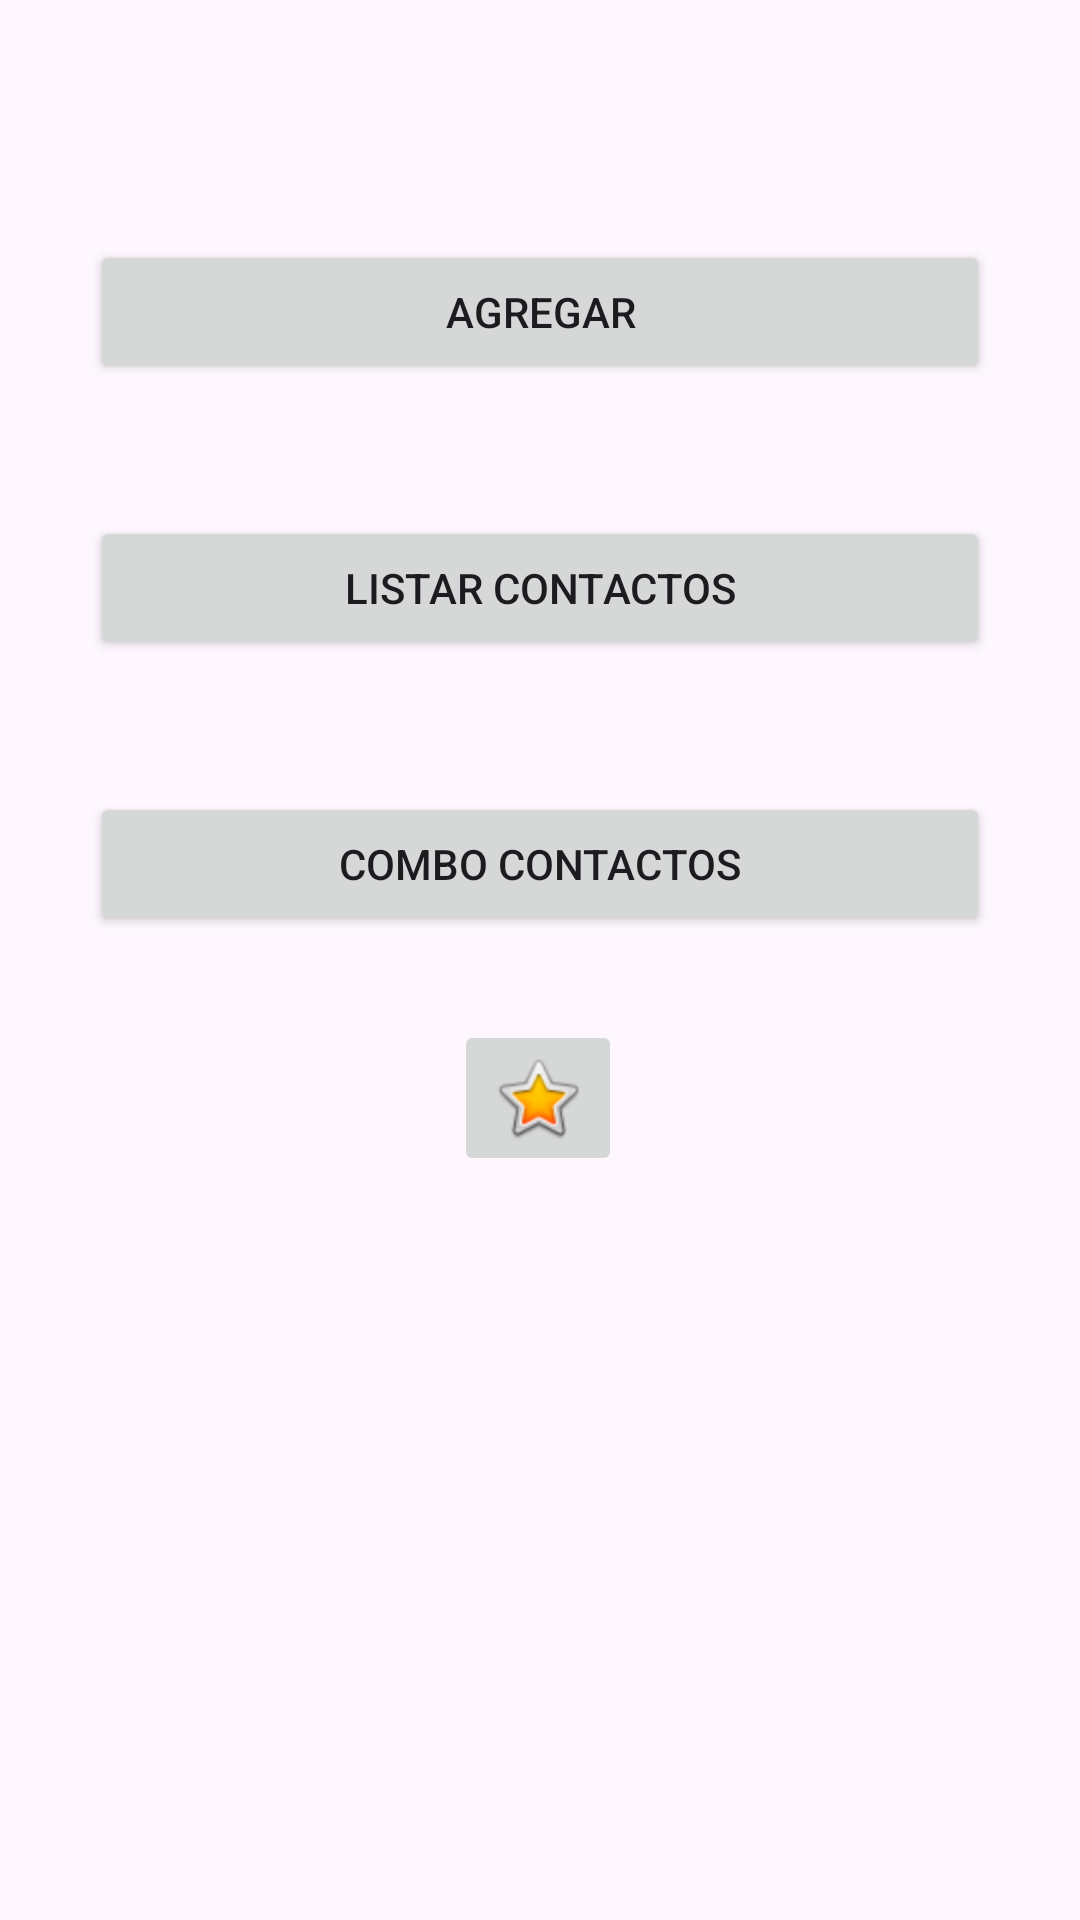

Point at icon controls on the screen. Image size 1080 × 1920, points as point (x, y).
star on: point (538, 1098)
